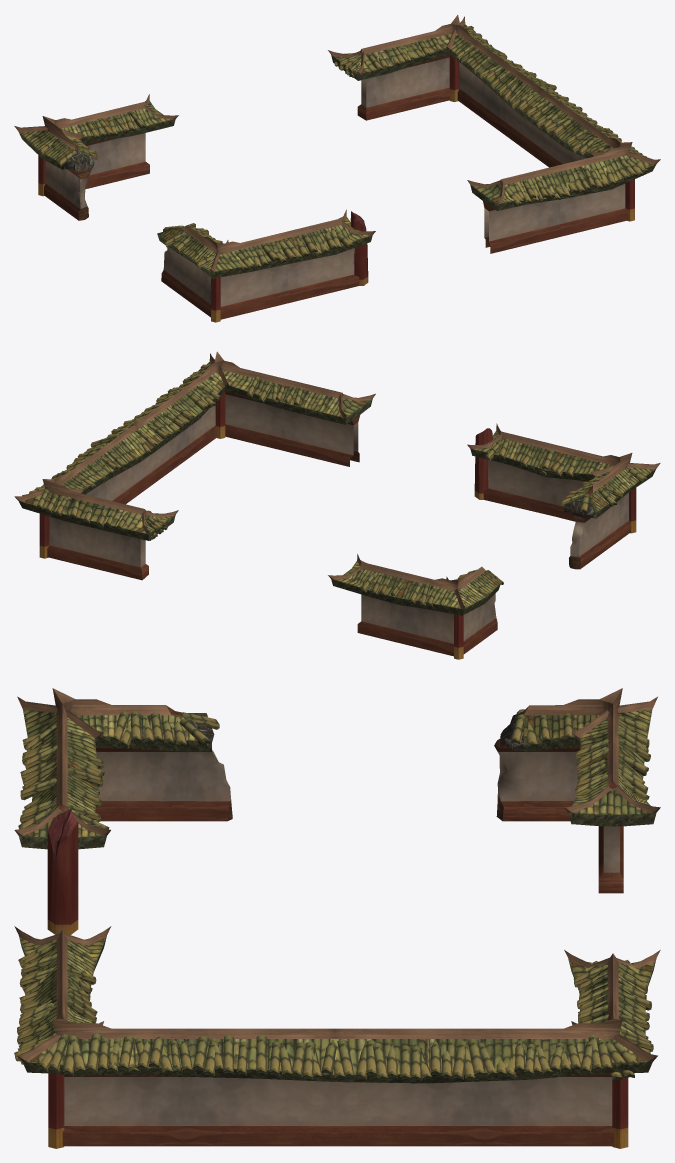
Rendered from handan_field_b_i01b.fbx.
The picture shows the model from 3 angles, top to bottom: view 1: azimuth 30°, elevation 25°; view 2: azimuth 150°, elevation 25°; view 3: azimuth 270°, elevation 25°; orthographic projection. The views are drawn at different scales.
Parts seen in each view (by area): view 1: handan_field_b_i01b:handan_field_b_i01b; view 2: handan_field_b_i01b:handan_field_b_i01b; view 3: handan_field_b_i01b:handan_field_b_i01b.
Boxes of the visible parts, <box> form: handan_field_b_i01b:handan_field_b_i01b: <box>14,15,660,322</box>; handan_field_b_i01b:handan_field_b_i01b: <box>14,351,660,659</box>; handan_field_b_i01b:handan_field_b_i01b: <box>14,688,660,1148</box>.
Size of the model in its own units: 3345 by 542 by 2506.
1 material, 1 textured.
